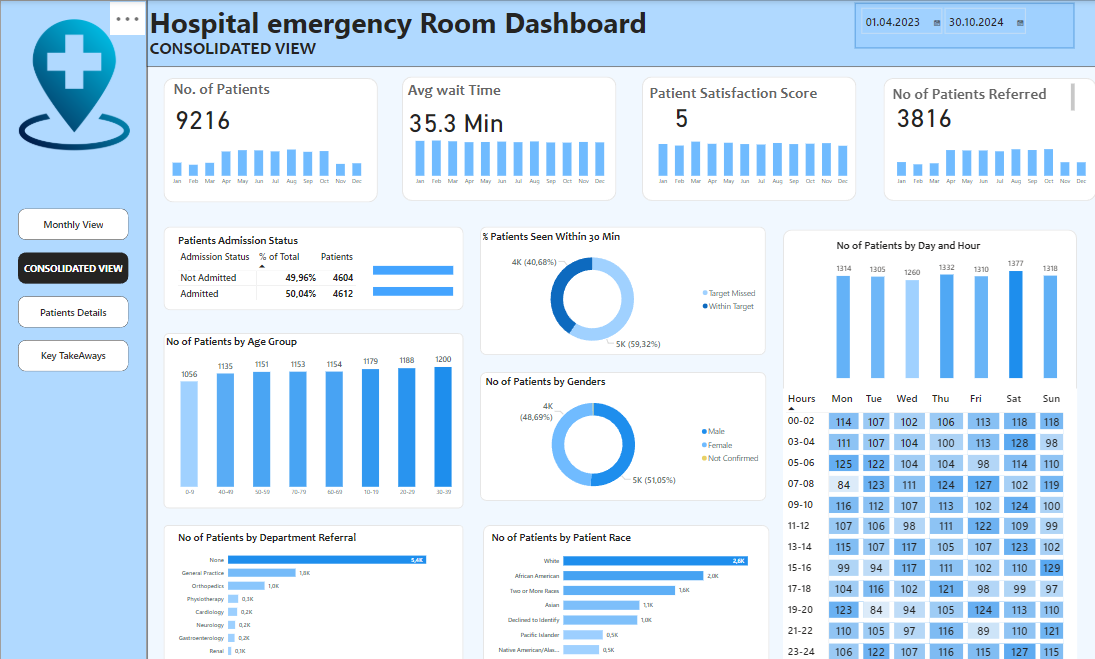

What the dashboard file says about the page in this screenshot:
{"tool":"powerbi","page":{"name":"CONSOLIDATED VIEW","canvas":[2300,1400],"ordinal":1},"visuals":[{"type":"shape","box":[343.2,163.7,450.2,261.3],"z":0},{"type":"shape","box":[0,0,310,1401.1],"z":1000},{"type":"shape","box":[308.6,0,1993,140],"z":2000},{"type":"textbox","box":[308.6,0,1070.5,107],"z":3000},{"type":"textbox","box":[308.6,72.4,585.6,69.3],"z":4000},{"type":"card","fields":{"Values":["Hospital ER_Data.No of Patients"]},"box":[341.1,199.4,170,91.3],"z":5000},{"type":"slicer","fields":{"Values":["Date.Date"]},"box":[1794.6,6.3,459.7,94.5],"z":6000},{"type":"textbox","box":[360,161.6,226.7,75.6],"z":8000},{"type":"columnChart","fields":{"Category":["Date.Month Name"],"Y":["Hospital ER_Data.No of Patients"]},"box":[344.2,275,434.5,125],"z":9000},{"type":"shape","box":[1852.9,163.7,447.1,258.2],"z":11000},{"type":"shape","box":[843.8,160.6,450.2,261.3],"z":12000},{"type":"card","fields":{"Values":["Hospital ER_Data.Avg. Wait Time"]},"box":[843.8,204.7,226.7,91.3],"z":13000},{"type":"textbox","box":[843.8,163.7,226.7,75.6],"z":14000},{"type":"columnChart","fields":{"Category":["Date.Month Name"],"Y":["Avg(Hospital ER_Data.Patient Waittime)"]},"box":[853.2,273.9,434.5,125],"z":15000},{"type":"shape","box":[1347.6,160.6,450.2,261.3],"z":16000},{"type":"textbox","box":[1344.4,170,384.1,75.6],"z":17000},{"type":"columnChart","fields":{"Category":["Date.Month Name"],"Y":["Avg(Hospital ER_Data.Patient Satisfaction Score)"]},"box":[1363.3,273.9,434.5,125],"z":18000},{"type":"card","fields":{"Values":["Hospital ER_Data.No of Patient Referred"]},"box":[1854.5,195.2,170,91.3],"z":19000},{"type":"columnChart","fields":{"Category":["Date.Month Name"],"Y":["Hospital ER_Data.No of Patient Referred"]},"box":[1863.9,273.9,434.5,125],"z":20000},{"type":"card","fields":{"Values":["Hospital ER_Data.Satisfaction Score"]},"box":[1344.4,195.2,170,91.3],"z":21000},{"type":"shape","box":[343.2,475.4,629.7,176.3],"z":22000},{"type":"textbox","box":[1854.5,170,406.2,75.6],"z":23000},{"type":"pivotTable","title":"Patients Admission Status","fields":{"Rows":["Hospital ER_Data.Admission Status"],"Values":["Hospital ER_Data.No of Patients","Hospital ER_Data.No of Patients1"]},"box":[368.4,491.2,588.8,144.8],"z":24000},{"type":"barChart","fields":{"Y":["Hospital ER_Data.No of Patients"],"Category":["Hospital ER_Data.Admission Status"]},"box":[777.7,522.7,229.8,129.1],"z":25000},{"type":"shape","box":[343.2,699,629.7,368.4],"z":26000},{"type":"columnChart","fields":{"Category":["Hospital ER_Data.Age Group"],"Y":["Hospital ER_Data.No of Patients"]},"box":[343.2,702.1,642.3,349.5],"z":27000},{"type":"shape","box":[343.2,1102,629.7,299.1],"z":28000},{"type":"clusteredBarChart","fields":{"Category":["Hospital ER_Data.Department Referral"],"Y":["Hospital ER_Data.No of Patients"]},"box":[368.4,1114.6,554.1,277.1],"z":29000},{"type":"shape","box":[1007.5,475.4,600,270],"z":30000},{"type":"donutChart","title":"% Patients Seen Within 30 Min","fields":{"Category":["Hospital ER_Data.Waiting Status"],"Y":["Hospital ER_Data.No of Patients"]},"box":[1007.5,481.7,591.9,264.5],"z":31000},{"type":"shape","box":[1007.5,780.8,601.4,270.8],"z":32000},{"type":"donutChart","title":"No of Patients by Genders","fields":{"Y":["Hospital ER_Data.No of Patients"],"Category":["Hospital ER_Data.Patient Gender"]},"box":[1013.8,787.1,591.9,264.5],"z":33000},{"type":"shape","box":[1013.8,1102,601.4,299.1],"z":34000},{"type":"clusteredBarChart","fields":{"Y":["Hospital ER_Data.No of Patients"],"Category":["Hospital ER_Data.Patient Race"]},"box":[1026.4,1114.6,573,277.1],"z":35000},{"type":"shape","box":[1643.5,481.7,617.1,909.9],"z":36000},{"type":"pivotTable","fields":{"Rows":["Hospital ER_Data.WaitTime Interval"],"Columns":["Date.Day Name"],"Values":["Hospital ER_Data.No of Patients"]},"box":[1643.5,815.5,617.1,576.2],"z":37000},{"type":"columnChart","title":"No of Patients by Day and Hour","fields":{"Category":["Date.Day Name"],"Y":["Hospital ER_Data.No of Patients"]},"box":[1750.6,500.6,475.4,299.1],"z":38000},{"type":"image","box":[12.6,25.2,286.5,305.4],"z":39000},{"type":"pageNavigator","box":[37.8,437.6,233,343.2],"z":39001}]}

Visuals, with their boxes in screenshot pixels (x1, y1, x2, y2), scaled from the page's 2300x1400 canvas onto the 1095x659 screenshot:
shape: 163/77/378/200
shape: 0/0/148/658
shape: 147/0/1094/66
textbox: 147/0/657/50
textbox: 147/34/426/67
card - Hospital ER_Data.No of Patients: 162/94/243/137
slicer - Date.Date: 854/3/1073/47
textbox: 171/76/279/112
columnChart - Date.Month Name x Hospital ER_Data.No of Patients: 164/129/371/188
shape: 882/77/1094/199
shape: 402/76/616/199
card - Hospital ER_Data.Avg. Wait Time: 402/96/510/139
textbox: 402/77/510/113
columnChart - Date.Month Name x Avg(Hospital ER_Data.Patient Waittime): 406/129/613/188
shape: 642/76/856/199
textbox: 640/80/823/116
columnChart - Date.Month Name x Avg(Hospital ER_Data.Patient Satisfaction Score): 649/129/856/188
card - Hospital ER_Data.No of Patient Referred: 883/92/964/135
columnChart - Date.Month Name x Hospital ER_Data.No of Patient Referred: 887/129/1094/188
card - Hospital ER_Data.Satisfaction Score: 640/92/721/135
shape: 163/224/463/307
textbox: 883/80/1076/116
"Patients Admission Status" pivotTable: 175/231/456/299
barChart - Hospital ER_Data.No of Patients x Hospital ER_Data.Admission Status: 370/246/480/307
shape: 163/329/463/502
columnChart - Hospital ER_Data.Age Group x Hospital ER_Data.No of Patients: 163/330/469/495
shape: 163/519/463/658
clusteredBarChart - Hospital ER_Data.Department Referral x Hospital ER_Data.No of Patients: 175/525/439/655
shape: 480/224/765/351
"% Patients Seen Within 30 Min" donutChart: 480/227/761/351
shape: 480/368/766/495
"No of Patients by Genders" donutChart: 483/370/764/495
shape: 483/519/769/658
clusteredBarChart - Hospital ER_Data.No of Patients x Hospital ER_Data.Patient Race: 489/525/761/655
shape: 782/227/1076/655
pivotTable - Hospital ER_Data.WaitTime Interval x Date.Day Name: 782/384/1076/655
"No of Patients by Day and Hour" columnChart: 833/236/1060/376
image: 6/12/142/156
pageNavigator: 18/206/129/368
